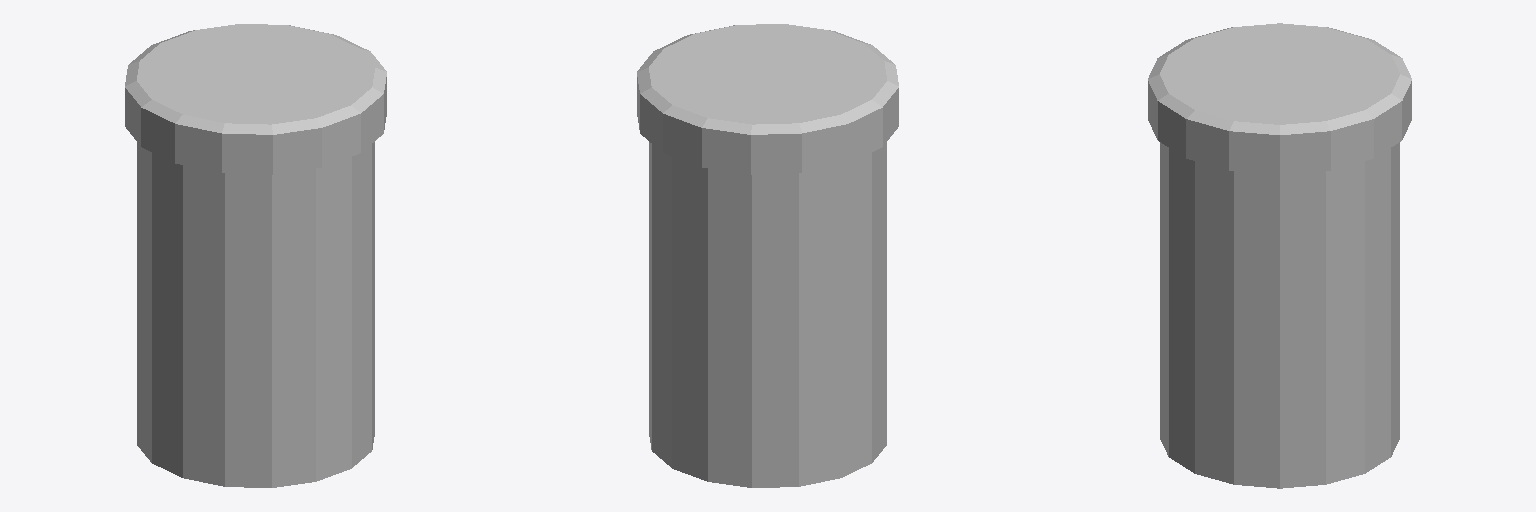
File: medicine.obj
3 views of the same model, side by side, from view 1: azimuth 30°, elevation 25°; view 2: azimuth 150°, elevation 25°; view 3: azimuth 270°, elevation 25° (orthographic).
Parts seen in each view (by area): view 1: Cylinder; view 2: Cylinder; view 3: Cylinder.
Boxes of the visible parts, box(x1,y1,x2,y2) form: Cylinder: box(125, 24, 386, 487); Cylinder: box(637, 24, 898, 487); Cylinder: box(1148, 23, 1411, 488).
Size of the model in its own units: 0.132 by 0.2 by 0.132.